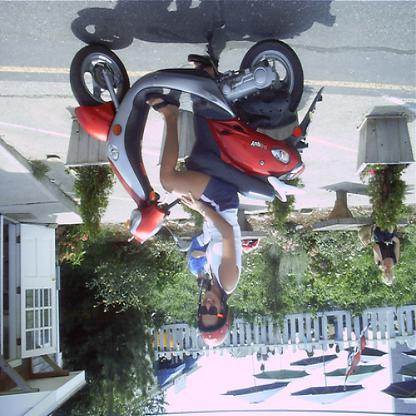motorbike: (67, 33, 327, 255)
person: (148, 90, 247, 352), (373, 232, 402, 288)
pottedplant: (355, 112, 416, 238), (66, 114, 119, 246)
